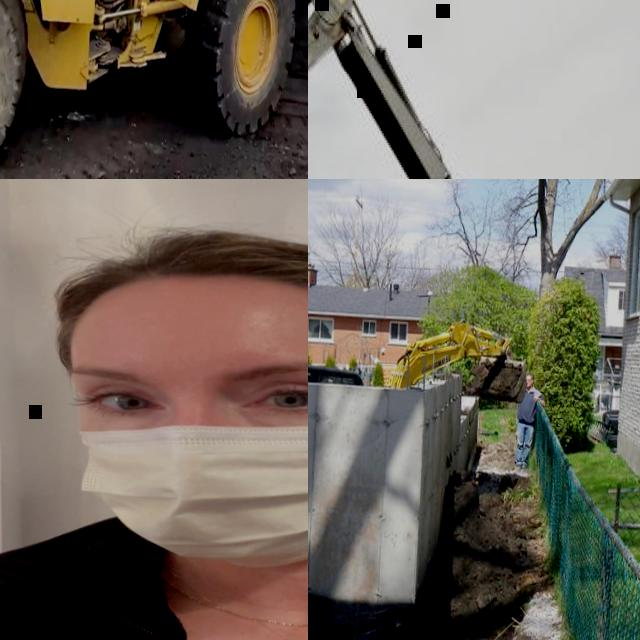machinery: (308, 0, 640, 179), (0, 0, 308, 179), (388, 315, 532, 407)
mask: (80, 417, 308, 572)
no_helmet: (41, 227, 308, 339), (526, 373, 536, 381)
no_mask: (526, 382, 535, 390)
no_vest: (516, 388, 537, 424)
person: (0, 236, 308, 640), (512, 372, 546, 468)
vehicle: (308, 359, 366, 389)
